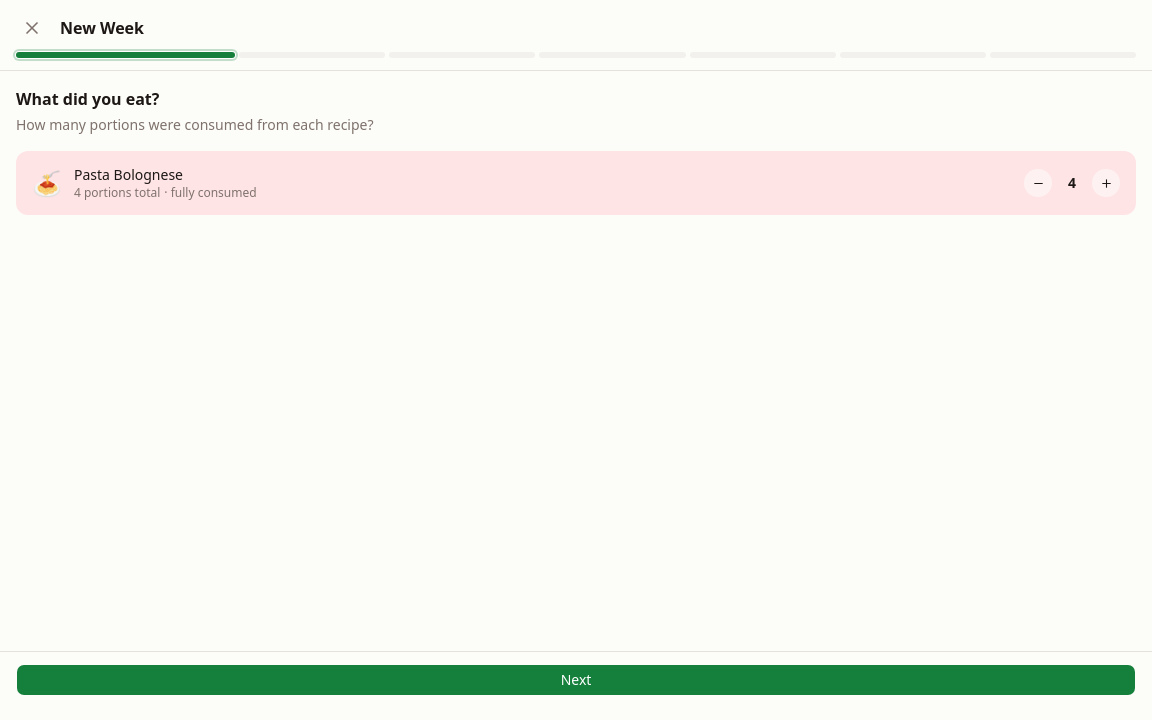
Test: StartNewWeekWizard › advances to step 2 when Next is clicked
Step 1. Click the button with test id "wizard-next" → (576, 680), box [16, 664, 1136, 696]
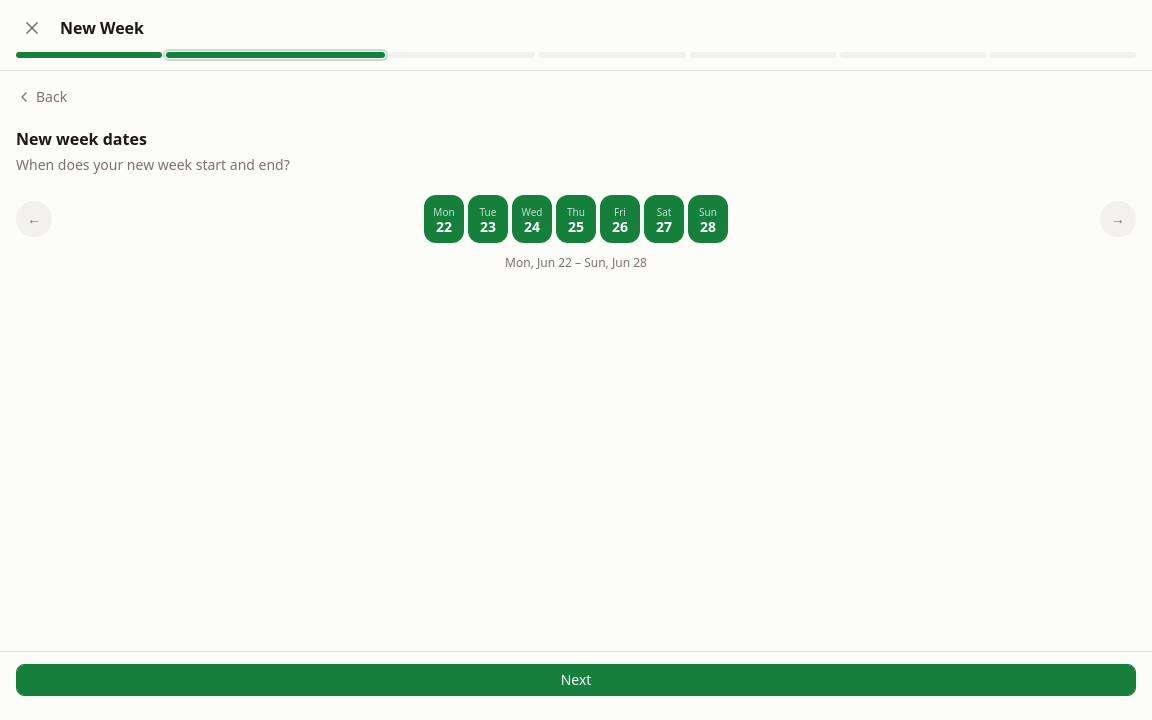
Now the heading "New week dates" is shown, box [16, 128, 147, 150]
Now the button named "Previous week" is shown, box [16, 201, 52, 237]
Now the button named "Next week" is shown, box [1100, 201, 1136, 237]
